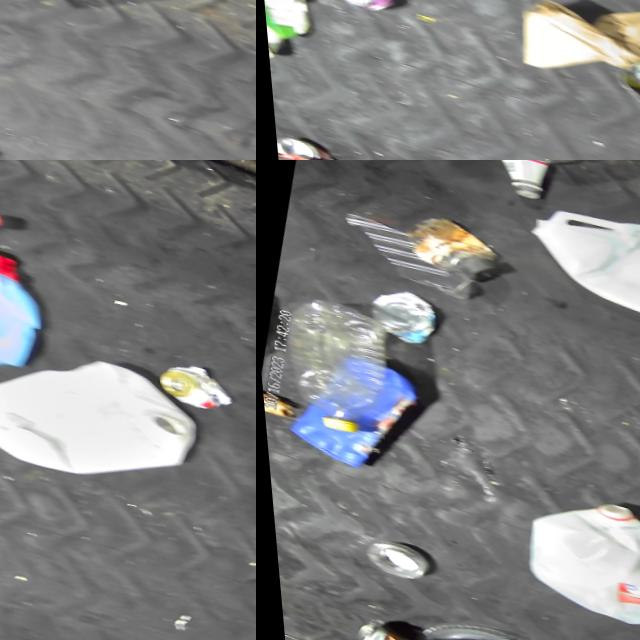can: (144, 351, 234, 413), (348, 529, 432, 590), (266, 127, 340, 160), (299, 0, 399, 17)
milk_jug: (0, 322, 205, 503), (501, 476, 640, 640), (509, 188, 640, 342)
non_white_jug: (0, 230, 55, 381)
plastic_bottle: (258, 290, 399, 441)
